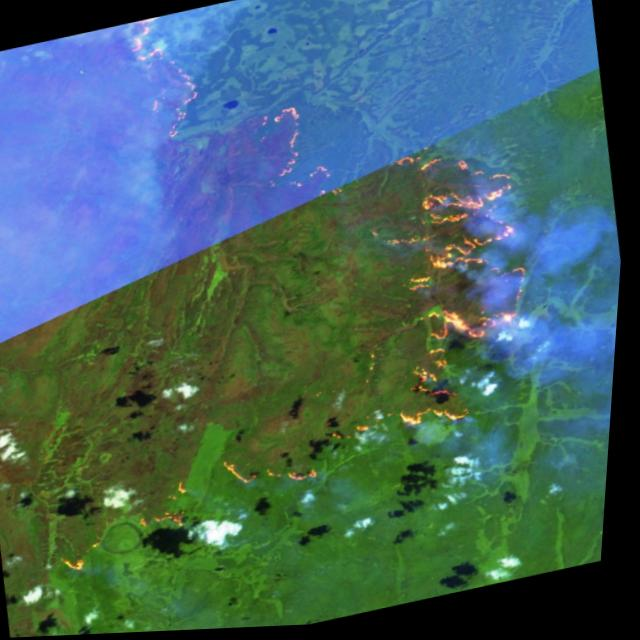fire: (0, 0, 593, 583)
